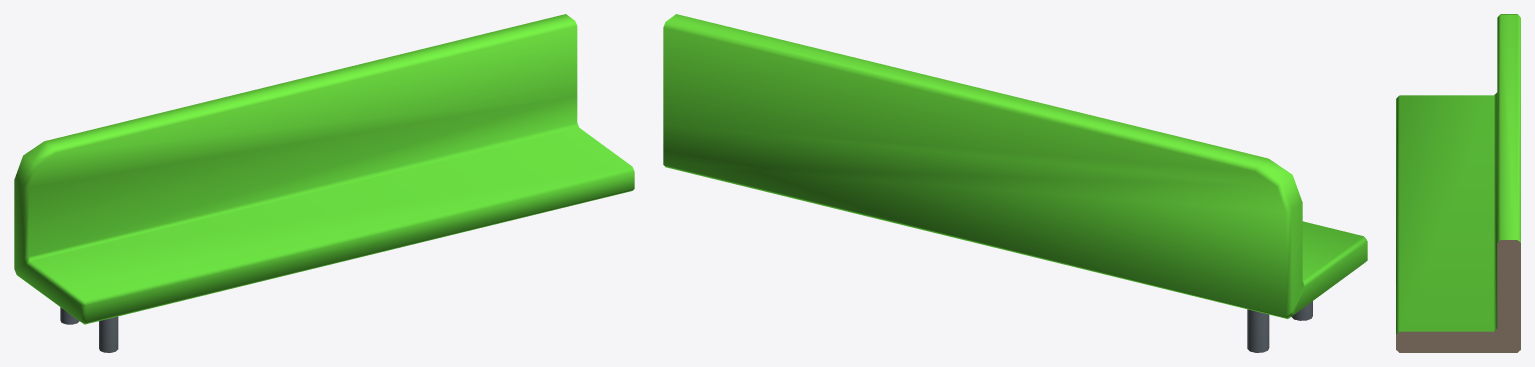
File: Bench_Corner1.fbx
3 renders of one model, left to right at view 1: azimuth 30°, elevation 25°; view 2: azimuth 150°, elevation 25°; view 3: azimuth 270°, elevation 25°, orthographic. The views are drawn at different scales.
Visible parts, largest first — view 1: Bench_Corner; view 2: Bench_Corner; view 3: Bench_Corner.
Boxes of the visible parts, <box> form: Bench_Corner: <box>14,14,634,352</box>; Bench_Corner: <box>663,14,1367,352</box>; Bench_Corner: <box>1396,14,1520,352</box>.
Size of the model in its own units: 400 by 120 by 88.8.
Materials: 1 (1 with a texture image).
